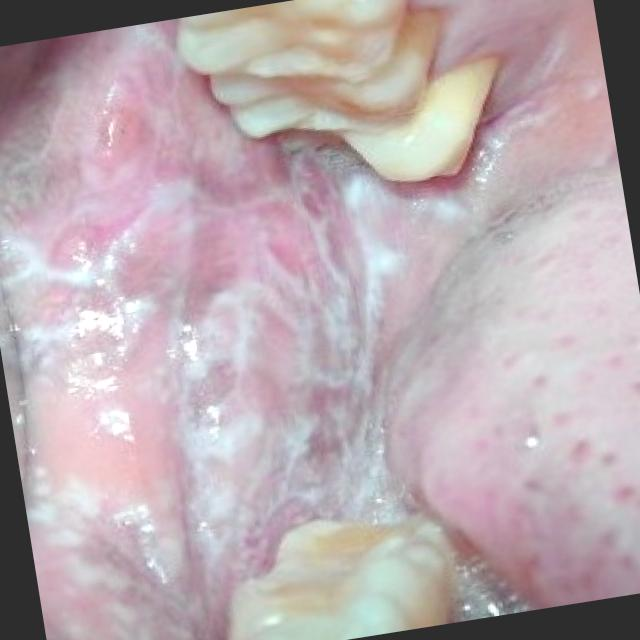Cancer: (0, 58, 400, 586), (451, 266, 640, 609)
